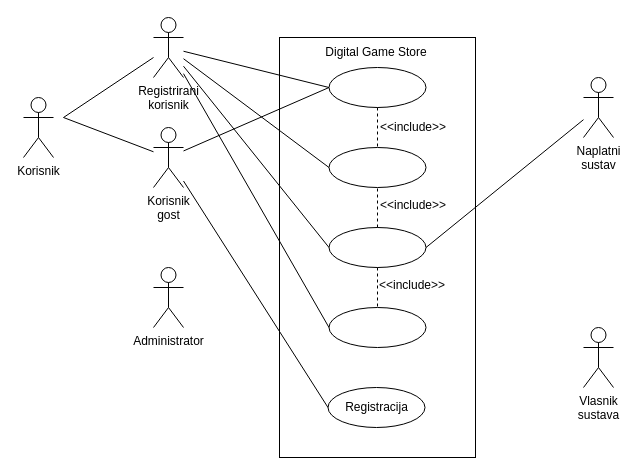
Some shapes in this 638 by 475 pixel diagram are drawn without their labels. The shapes that lost their labels are listed below. From the top down, each one's centre as x and y in pixels, then its label:
the point at 377,87: Pregled igara
the point at 377,167: Kupovina igara
the point at 377,247: Plaćanje igara
the point at 377,327: Recenzija igara
